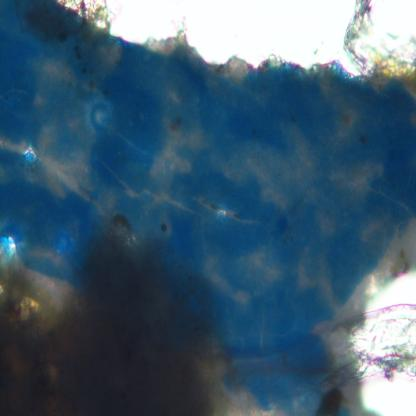Background material: (0, 227, 253, 414)
Cellulose filter fibre: (350, 302, 416, 375), (347, 0, 376, 77)
Fragment: (0, 0, 416, 414)
